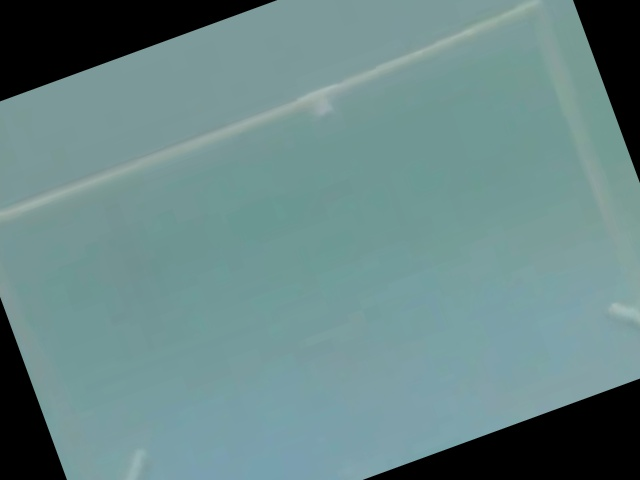gate: (4, 4, 640, 347)
